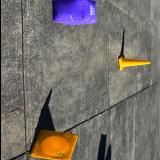cone: (28, 129, 78, 160), (118, 54, 150, 70)
cube: (52, 0, 97, 26)
